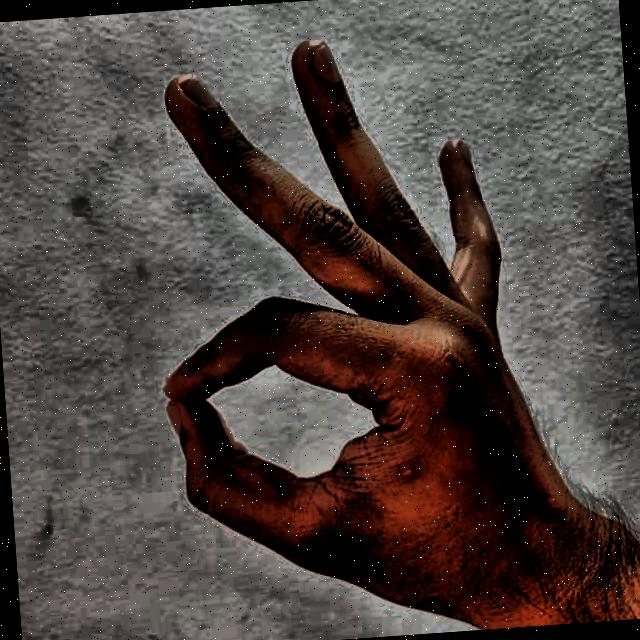Ca: (96, 6, 608, 640)
